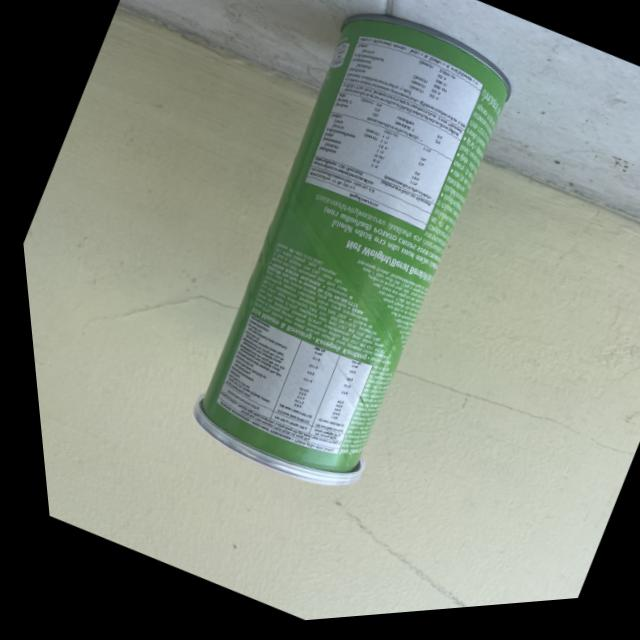a pringles: (136, 0, 558, 525)
